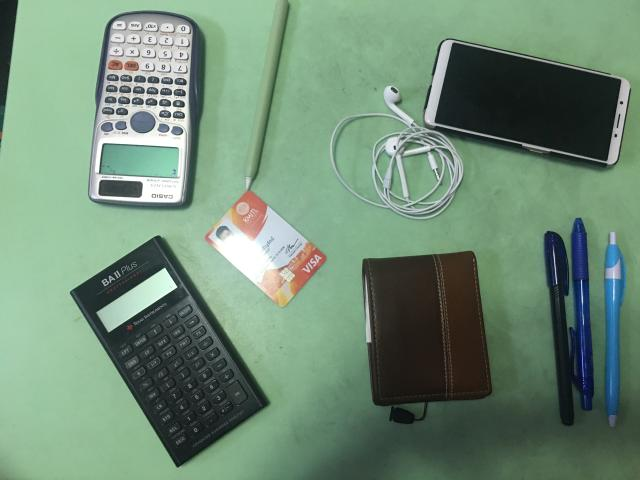Mobile phone: (424, 39, 630, 166)
Pen: (544, 231, 574, 425), (570, 218, 594, 410), (605, 232, 626, 426)
Wallet: (362, 251, 491, 406)
wire: (330, 86, 464, 219)
